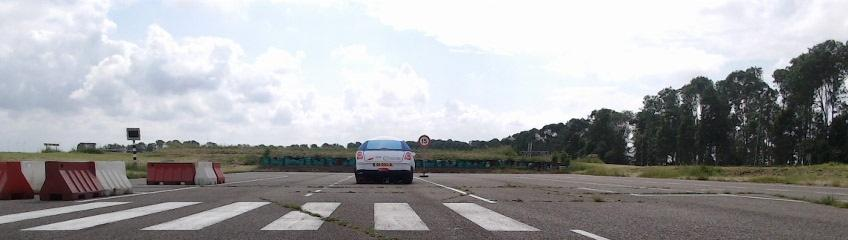Car: (355, 136, 416, 184)
Speed-limit-15km-h-: (418, 135, 430, 148)
